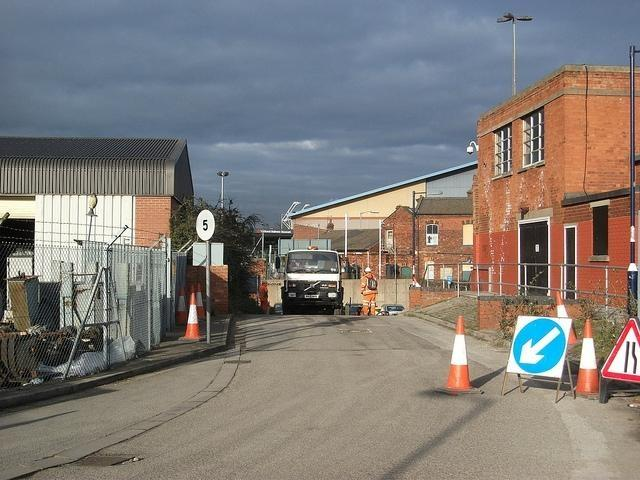truck: (280, 246, 344, 314)
